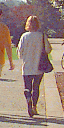person: (14, 16, 49, 124)
